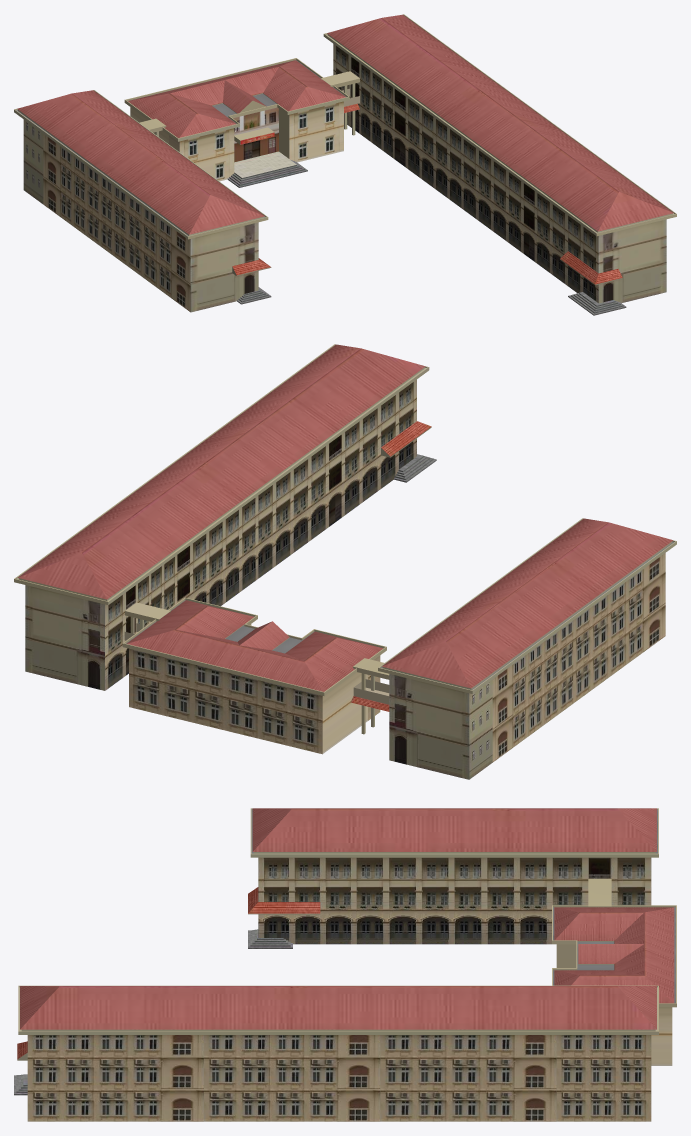
3 views of the same model, one above another, from view 1: azimuth 30°, elevation 25°; view 2: azimuth 150°, elevation 25°; view 3: azimuth 270°, elevation 25° (orthographic). The views are drawn at different scales.
Parts seen in each view (by area): view 1: HN1365_TruongTieuHocNamTrungYen; view 2: HN1365_TruongTieuHocNamTrungYen; view 3: HN1365_TruongTieuHocNamTrungYen.
Part boxes in pixels (x1=…): HN1365_TruongTieuHocNamTrungYen: x1=14, y1=14, x2=676, y2=315; HN1365_TruongTieuHocNamTrungYen: x1=14, y1=344, x2=676, y2=779; HN1365_TruongTieuHocNamTrungYen: x1=14, y1=808, x2=676, y2=1121.
Size of the model in its own units: 56.79 by 13.75 by 71.19.
Materials: 1 (1 with a texture image).
